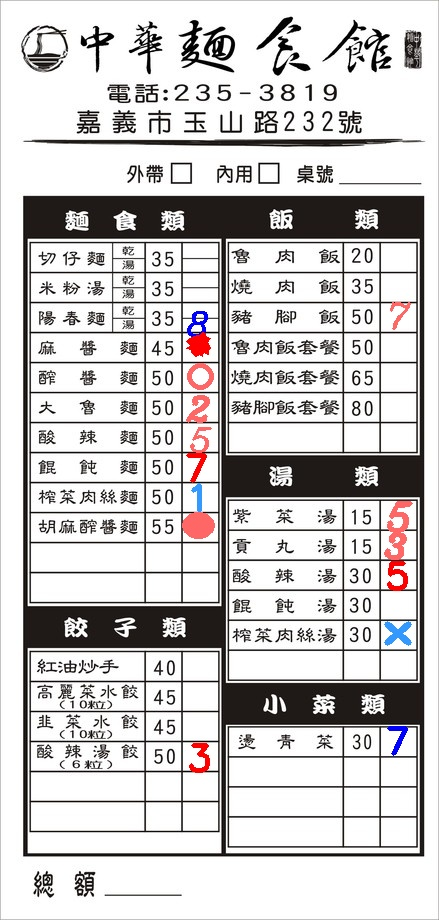marked_circle: (182, 332, 218, 361), (181, 512, 217, 541)
marked_hollow: (182, 362, 218, 391)
marked_number_1: (181, 483, 217, 512)
marked_number_2: (181, 392, 217, 421)
marked_number_3: (182, 743, 218, 772), (380, 531, 416, 560)
marked_number_5: (181, 424, 217, 453), (381, 500, 417, 529), (380, 561, 416, 590)
marked_number_7: (380, 726, 416, 755), (179, 453, 215, 482), (380, 302, 416, 331)
marked_number_8: (183, 317, 217, 330)
marked_x: (380, 619, 416, 648)
